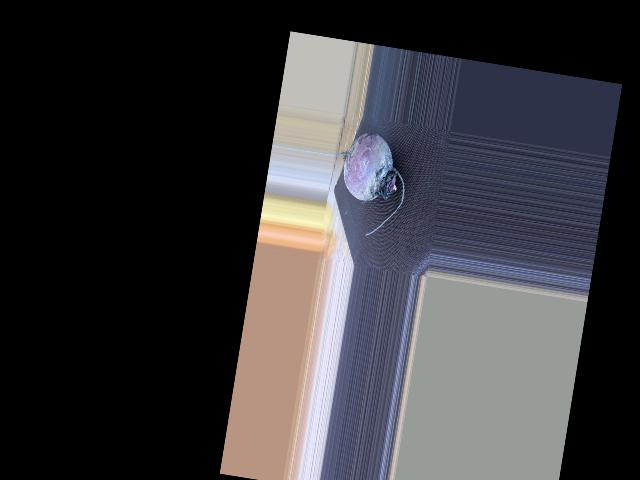beet: (322, 127, 413, 240)
